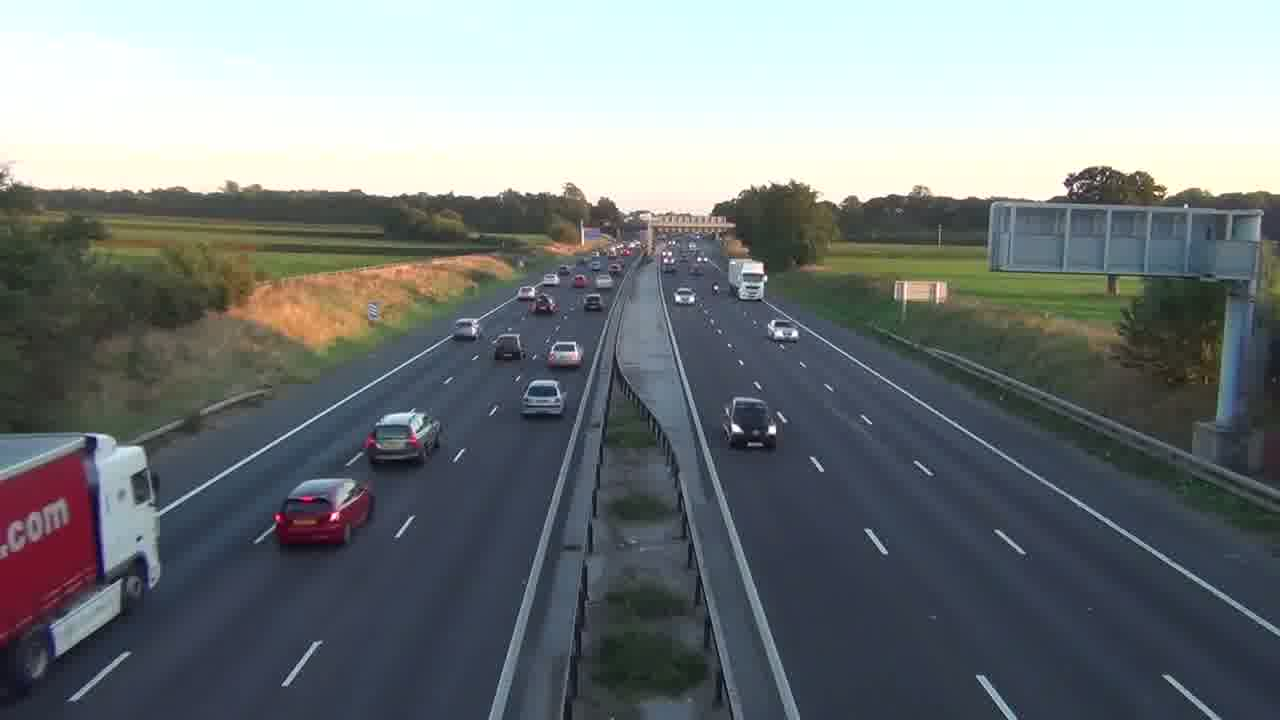car: (273, 476, 374, 547), (364, 409, 443, 466), (720, 396, 779, 450), (521, 378, 565, 418), (547, 340, 583, 369), (768, 320, 800, 348), (493, 332, 521, 361), (452, 316, 481, 341), (583, 292, 605, 311)
truck: (0, 431, 163, 697)
